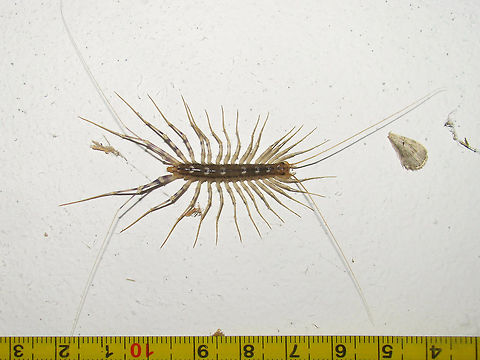centipede: (83, 91, 369, 249)
